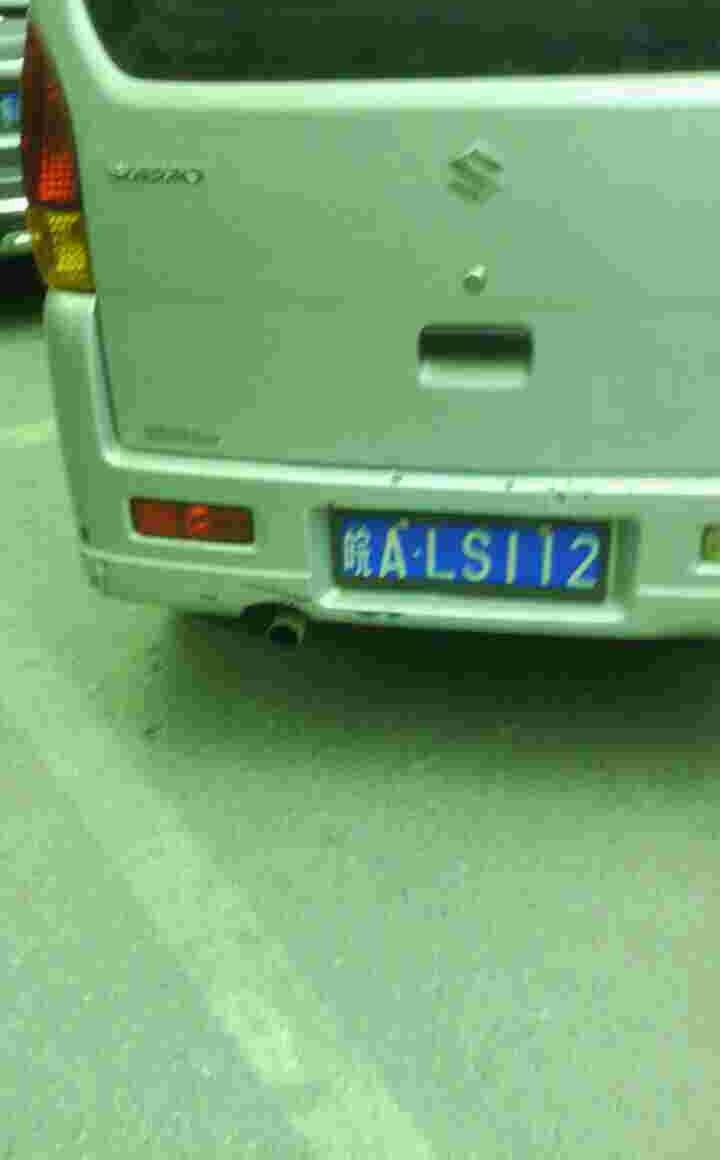license_plate: (342, 516, 603, 584)
